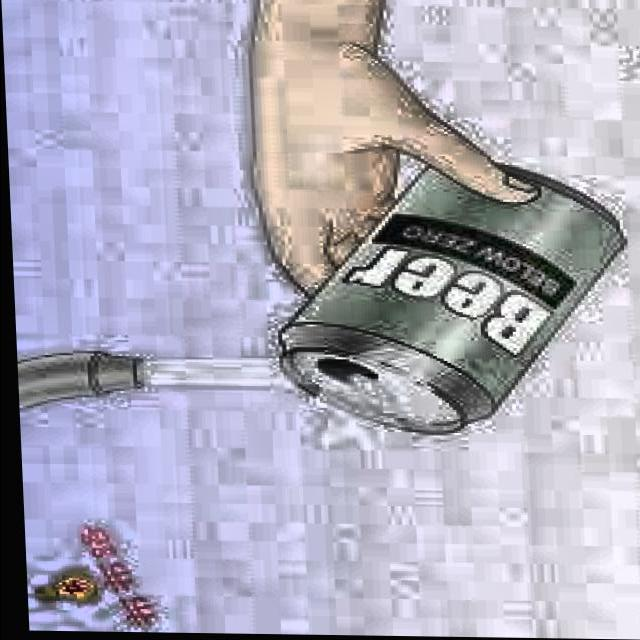Aluminum Can: (265, 156, 640, 442)
